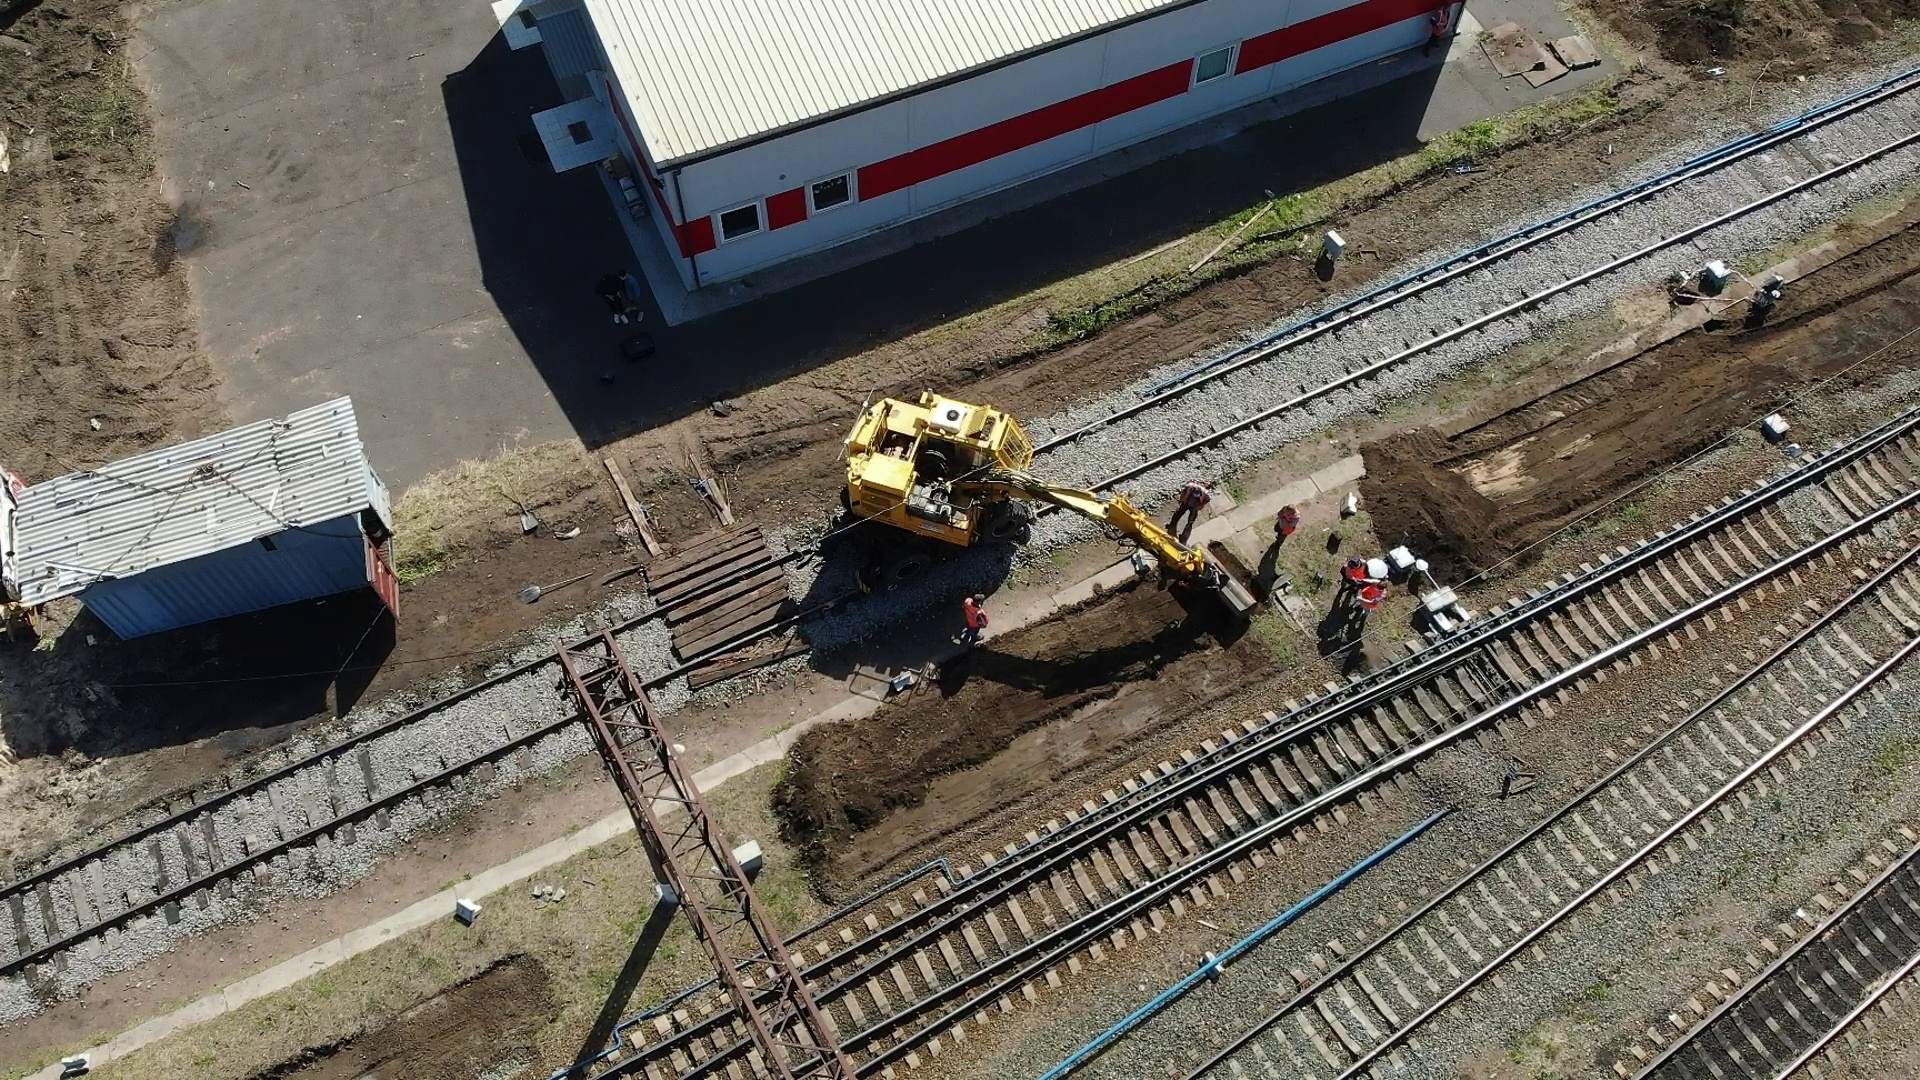kjtv: (828, 385, 1135, 545)
